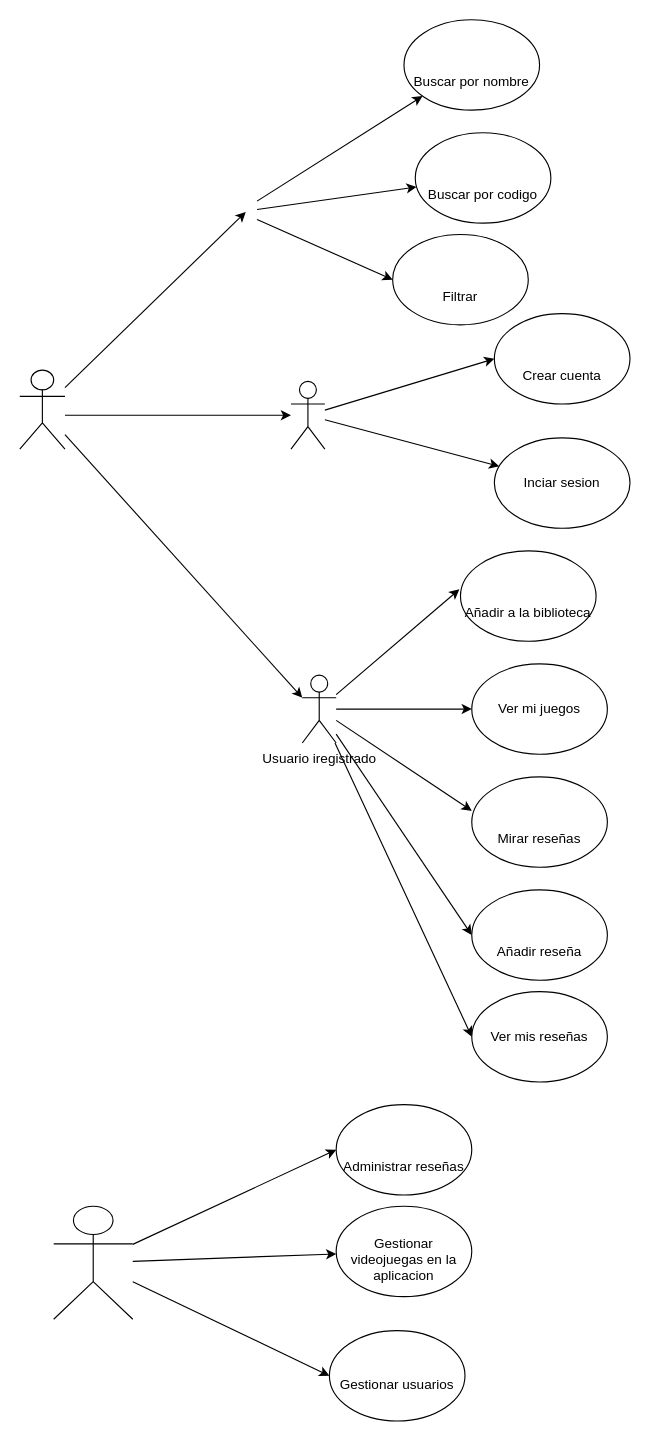
Image size: 650x1441. Some labels were removed from this diagram. Each missing label, with the centre of its shape:
"Admin" belongs at point (93, 1262).
"Usuario" belongs at point (42, 409).
"Usuario invitado" belongs at point (307, 414).
